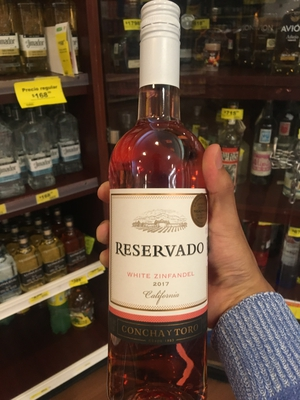reservado white zinfandel: (98, 6, 230, 386)
